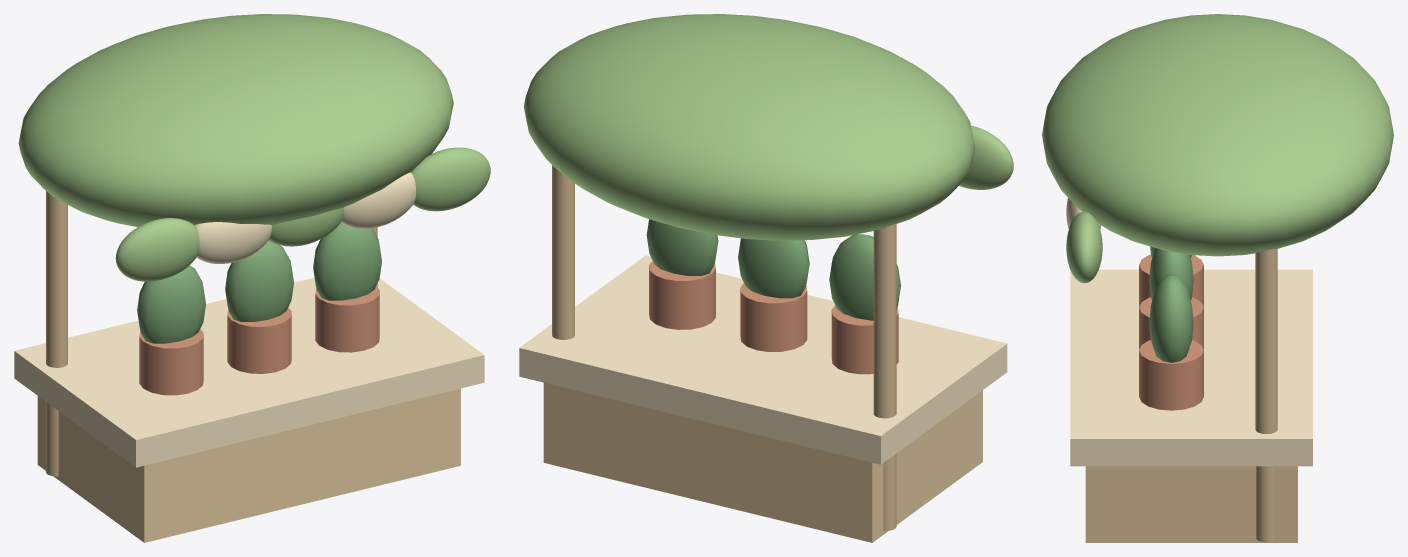
The model's file is fair-little-garden.glb.
The picture shows the model from 3 angles, left to right: view 1: azimuth 30°, elevation 25°; view 2: azimuth 150°, elevation 25°; view 3: azimuth 270°, elevation 25°; orthographic projection. The views are drawn at different scales.
Parts seen in each view (by area): view 1: fair-little-garden; view 2: fair-little-garden; view 3: fair-little-garden.
Boxes of the visible parts, x1,y1,x2,y2 form: fair-little-garden: (14,14,490,542); fair-little-garden: (519,14,1013,542); fair-little-garden: (1042,14,1393,542).
Bounding box in the file's own units: 2.26 × 2.21 × 1.74.
